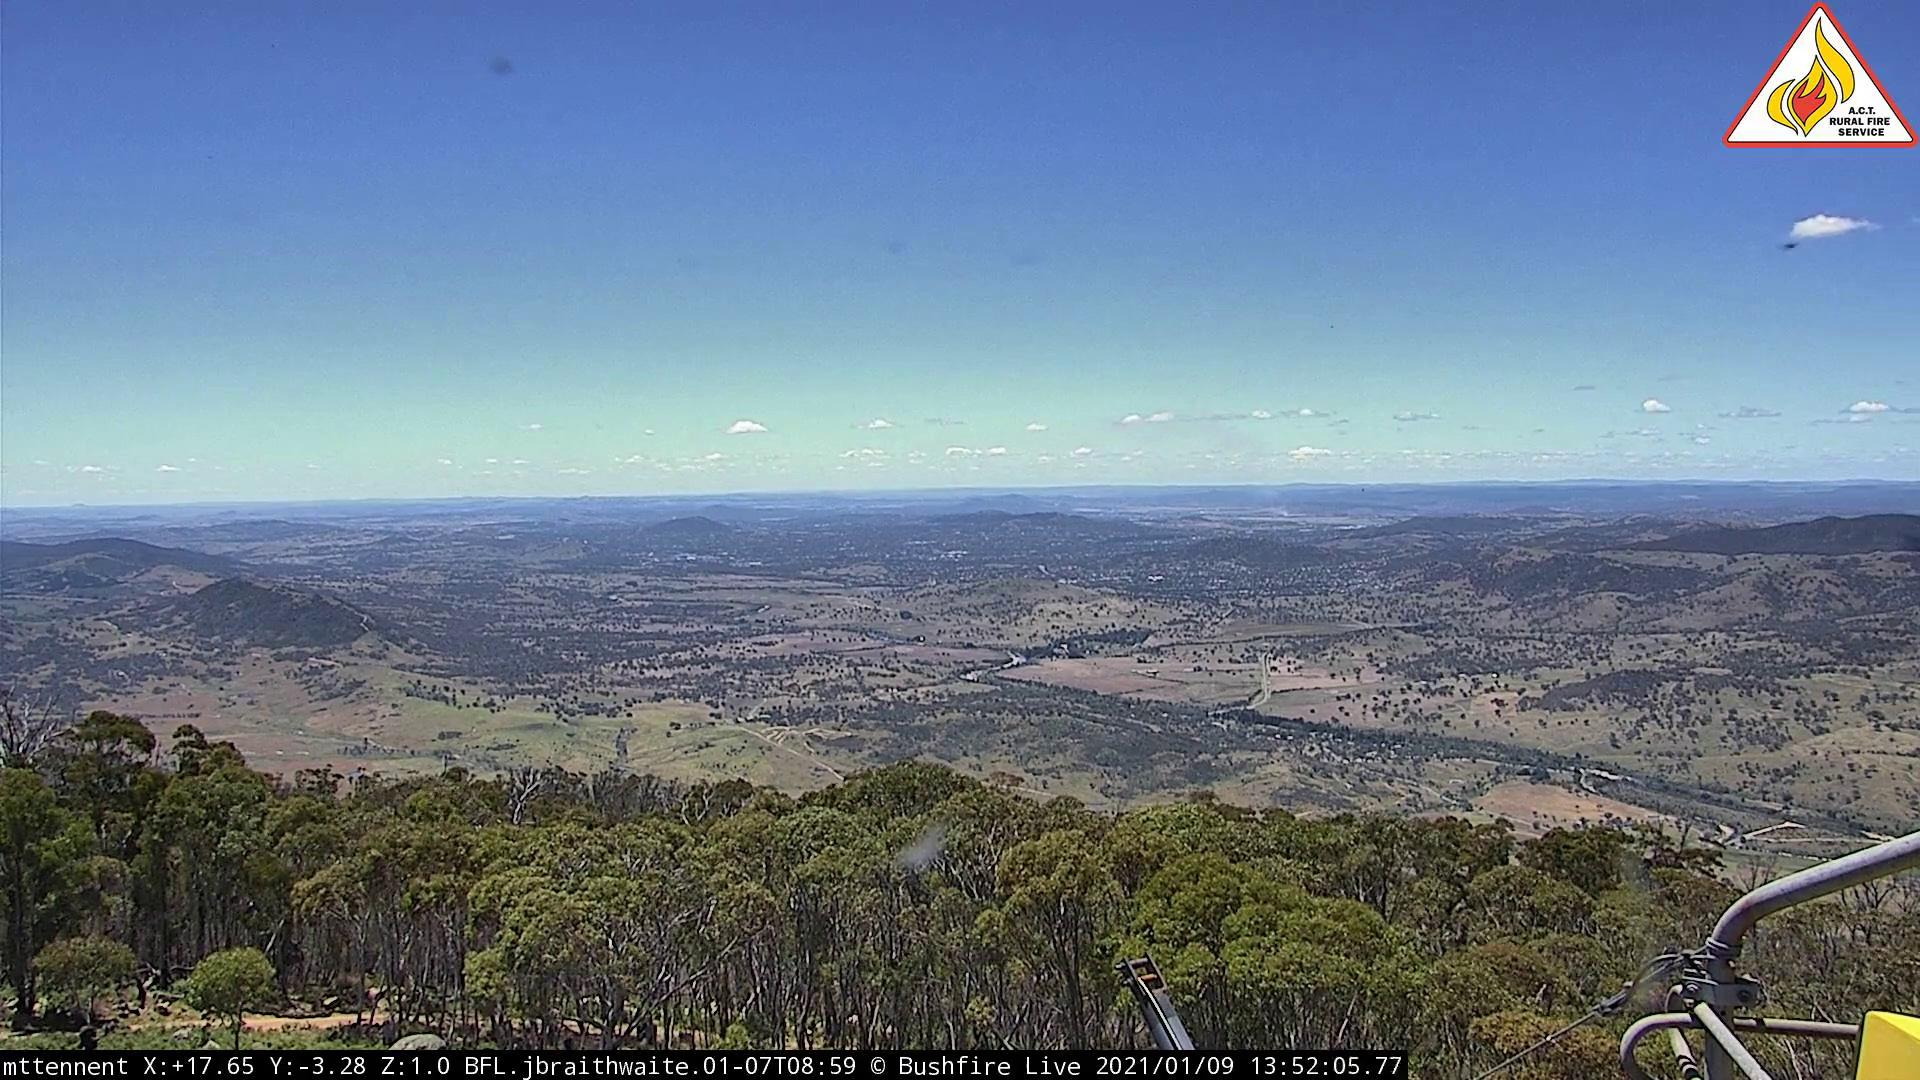Smoke: (1270, 498, 1298, 521)
